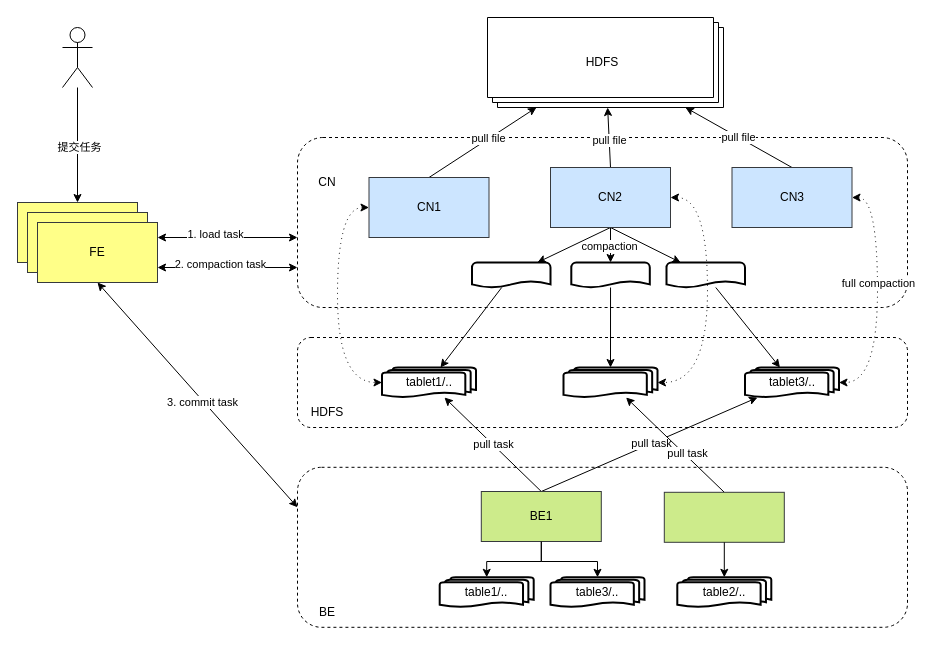
Image size: 932x645. Some labels were removed from this diagram. Here are the shapes that lost their labels. From the top down, the box of each, then its label:
(62, 26, 92, 88): Actor
(470, 261, 551, 288): tablet1
(570, 261, 650, 288): tablet2
(665, 261, 746, 288): tablet3
(562, 366, 658, 398): tablet2/..
(663, 491, 784, 542): BE2
